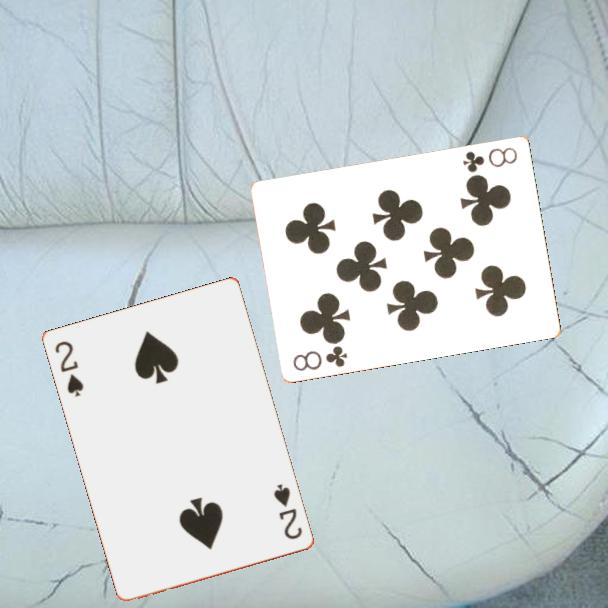c08: (460, 143, 521, 175), (290, 342, 350, 373)
s02: (270, 480, 305, 543), (52, 337, 87, 400)
